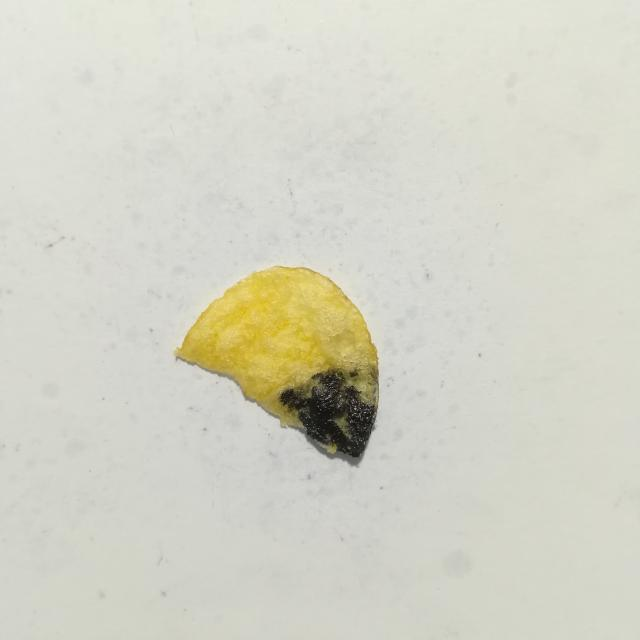chip: (175, 266, 378, 457)
damaged: (280, 372, 376, 457)
semi-damaged: (338, 364, 379, 409), (296, 379, 317, 398)
